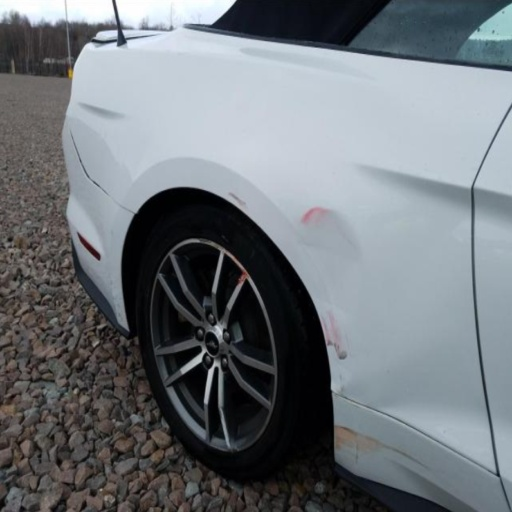dent: (286, 205, 360, 296)
scratch: (334, 424, 438, 479), (320, 303, 354, 364), (302, 205, 330, 225), (227, 185, 248, 207), (239, 262, 251, 283)
